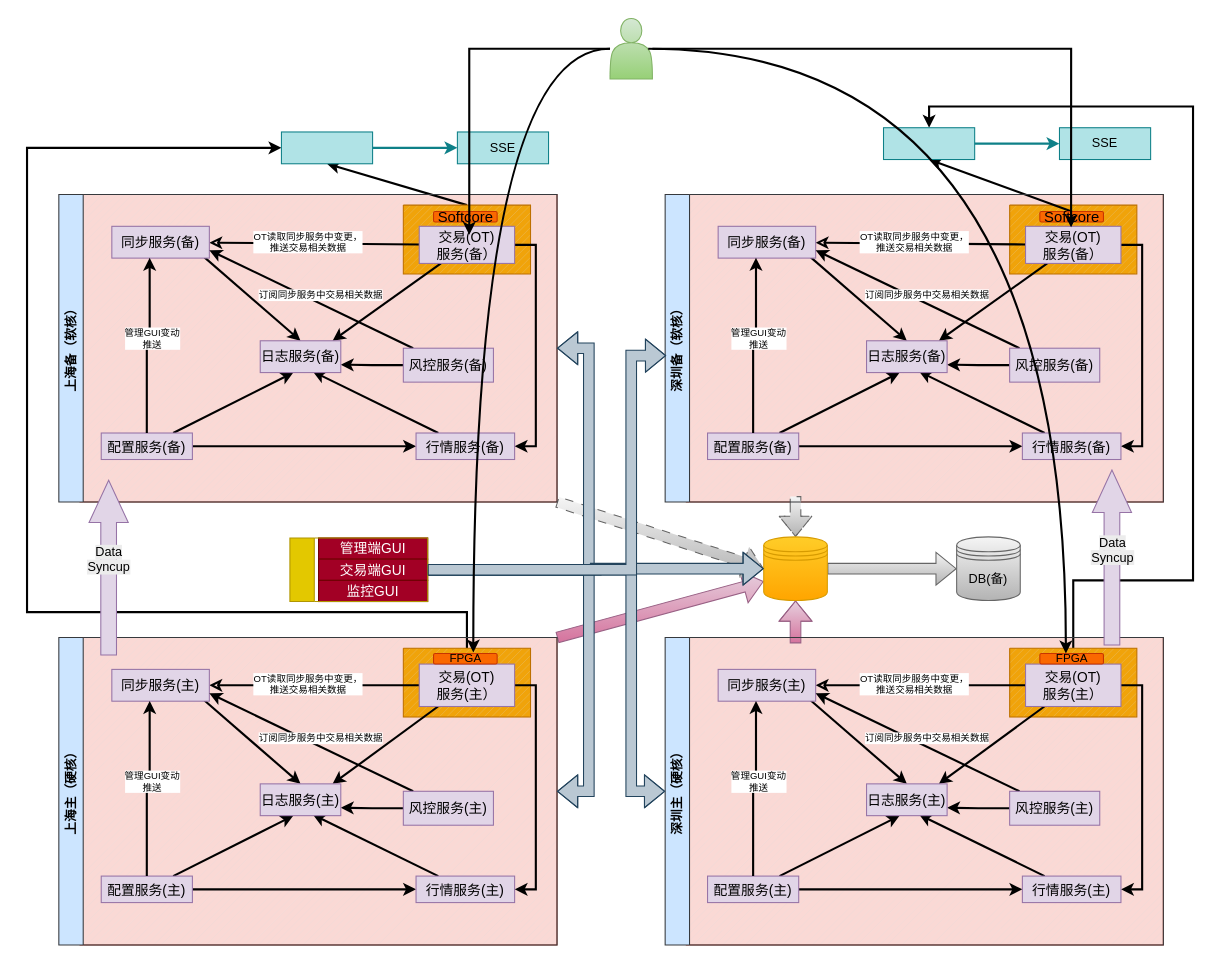
The diagram is 1220 pixels wide and 964 high, and some of its shapes have lost their labels. The shapes that lost their labels are listed below. From the top down, each one's centre as x and y in pixels, then its label:
At [630,48]: "Client".
At [326,147]: "TGW(1...n)".
At [928,143]: "TDGW(1...n)".
At [358,569]: "GUI".
At [795,568]: "DB(主)".
